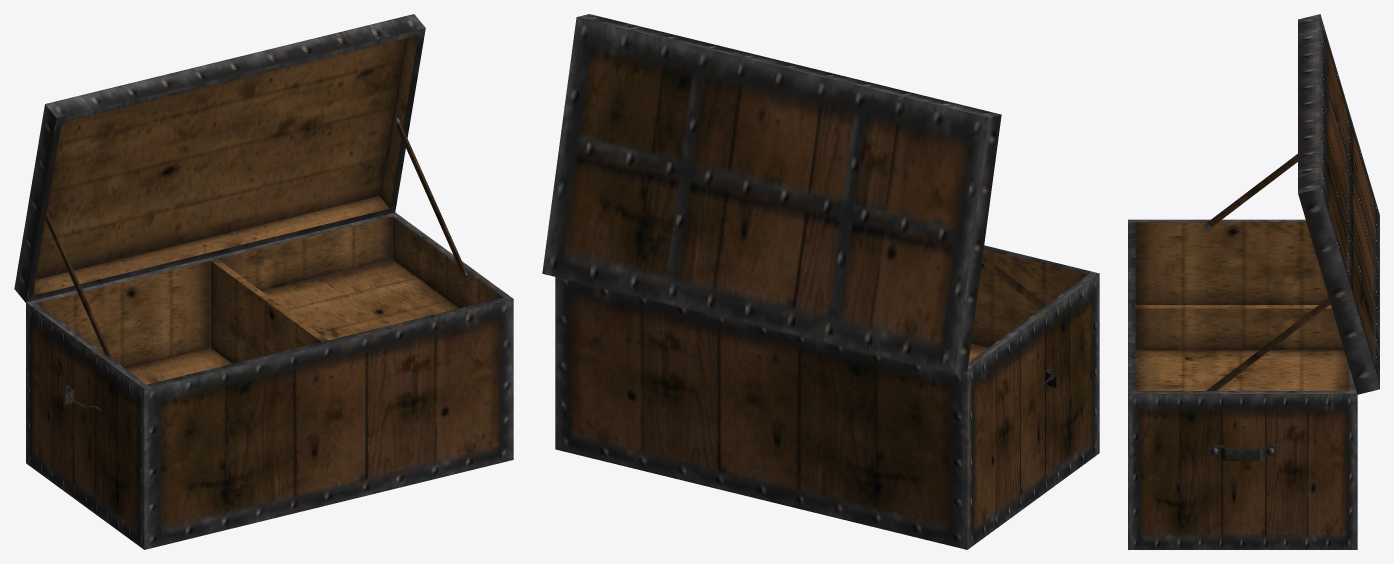
Rendered from Trunk01.glb.
3 renders of one model, left to right at view 1: azimuth 30°, elevation 25°; view 2: azimuth 150°, elevation 25°; view 3: azimuth 270°, elevation 25°, orthographic. The views are drawn at different scales.
Parts seen in each view (by area): view 1: _Trunk01; view 2: _Trunk01; view 3: _Trunk01.
Boxes of the visible parts, x1,y1,x2,y2 form: _Trunk01: [14, 14, 513, 549]; _Trunk01: [542, 14, 1099, 549]; _Trunk01: [1128, 14, 1379, 549].
Size of the model in its own units: 1.91 by 1.74 by 1.1.
1 material, 1 textured.
